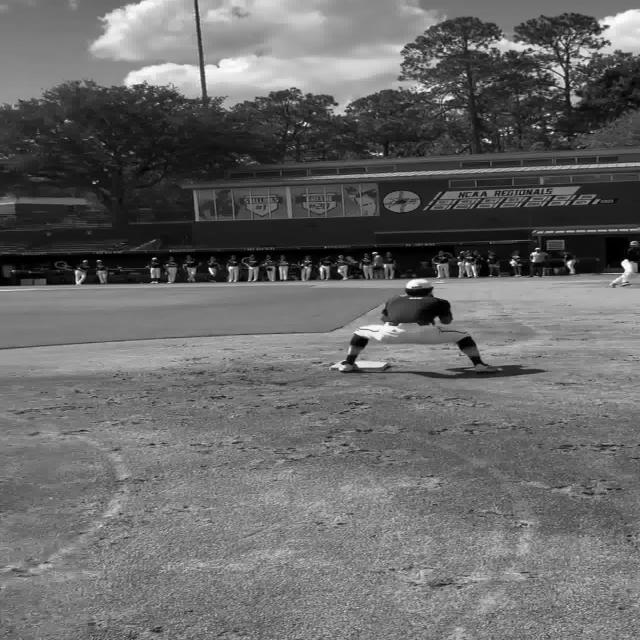base: (356, 360, 391, 370), (329, 362, 340, 370)
baseball: (509, 260, 516, 264)
shoe: (473, 362, 502, 374), (338, 361, 360, 372)
